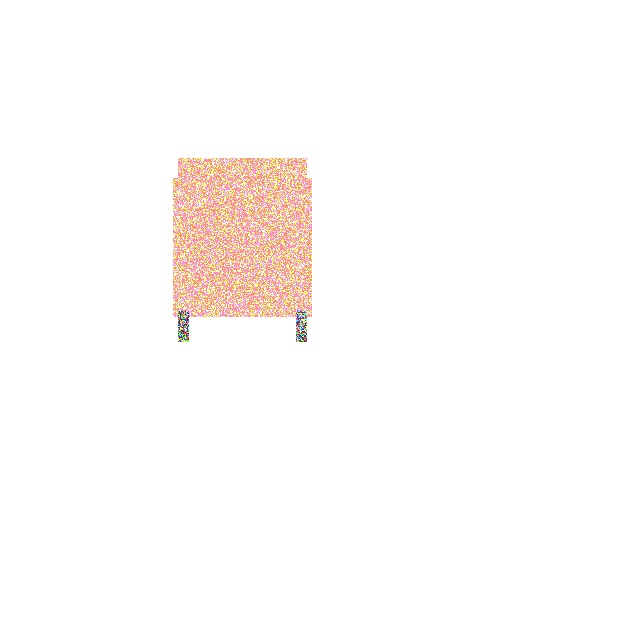Chaise: (173, 178, 311, 316)
